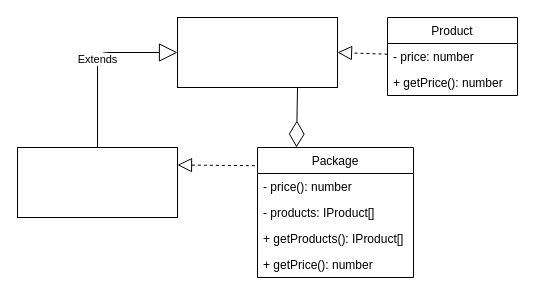
This 535x298 diagram has some shape labels left out. The centre of each missing label's shape, as x and y in pixels:
<<Interface>> IPackege + getProducts(): IProduct[]: the point at 97,182
<<Interface>> IProduct + getPrice(): number: the point at 257,52
